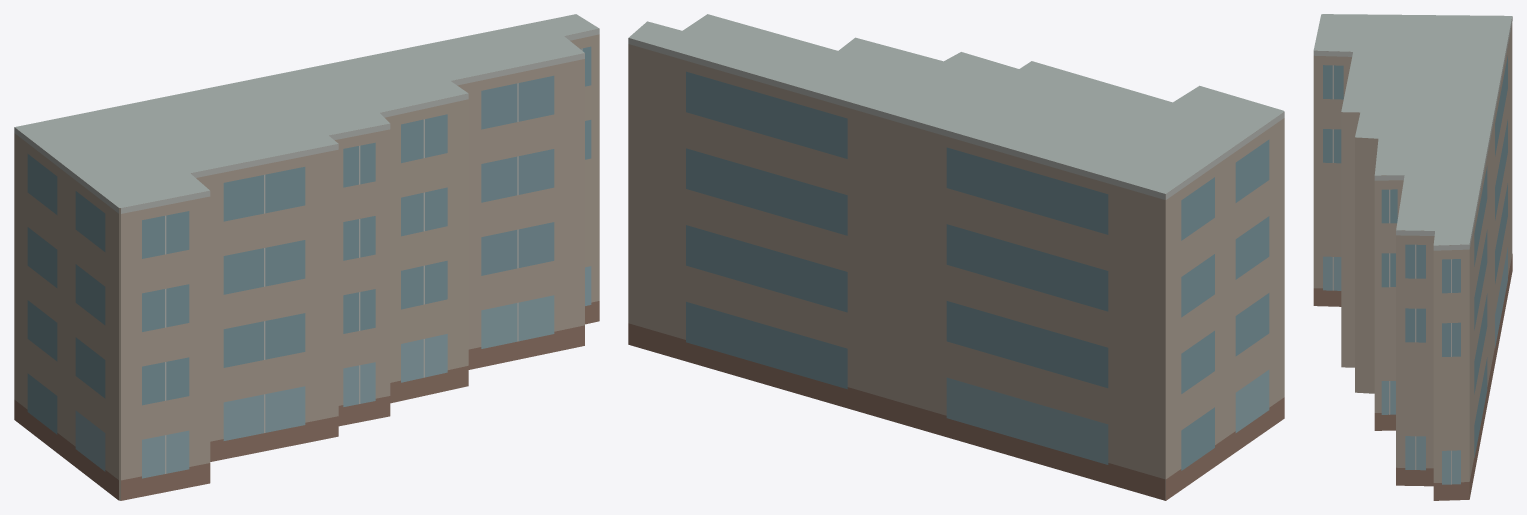
The model's file is survey-upis-32818575.glb.
The picture shows the model from 3 angles, left to right: view 1: azimuth 30°, elevation 25°; view 2: azimuth 150°, elevation 25°; view 3: azimuth 270°, elevation 25°; orthographic projection. The views are drawn at different scales.
Parts seen in each view (by area): view 1: survey-upis-32818575.tmp; view 2: survey-upis-32818575.tmp; view 3: survey-upis-32818575.tmp.
Boxes of the visible parts, x1,y1,x2,y2 form: survey-upis-32818575.tmp: [14, 14, 599, 500]; survey-upis-32818575.tmp: [628, 14, 1284, 500]; survey-upis-32818575.tmp: [1313, 14, 1512, 500].
Bounding box in the file's own units: 23.75 × 12.2 × 8.63.
